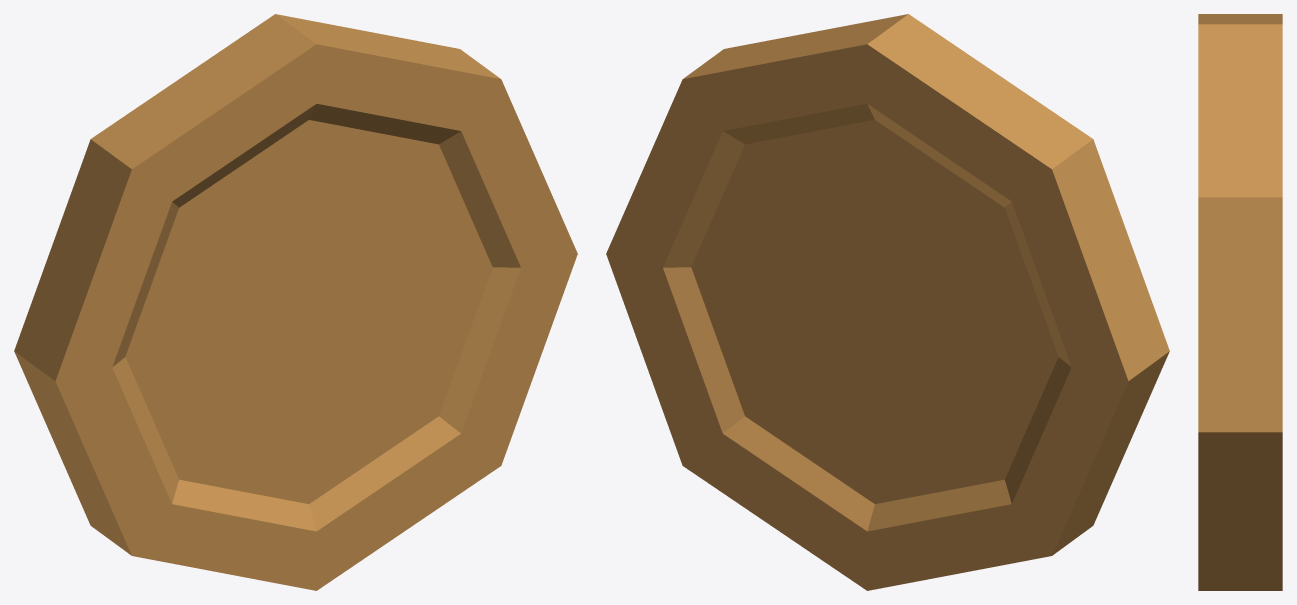
The model's file is SM_Icon_Coin_01.fbx.
3 renders of one model, left to right at view 1: azimuth 30°, elevation 25°; view 2: azimuth 150°, elevation 25°; view 3: azimuth 270°, elevation 25°, orthographic.
Visible parts, largest first — view 1: SM_Icon_Coin_01; view 2: SM_Icon_Coin_01; view 3: SM_Icon_Coin_01.
Boxes of the visible parts, x1,y1,x2,y2 form: SM_Icon_Coin_01: (14,14,577,590); SM_Icon_Coin_01: (606,14,1169,590); SM_Icon_Coin_01: (1198,14,1282,590).
Bounding box in the file's own units: 58.82 × 58.82 × 8.06.
1 material, 1 textured.
